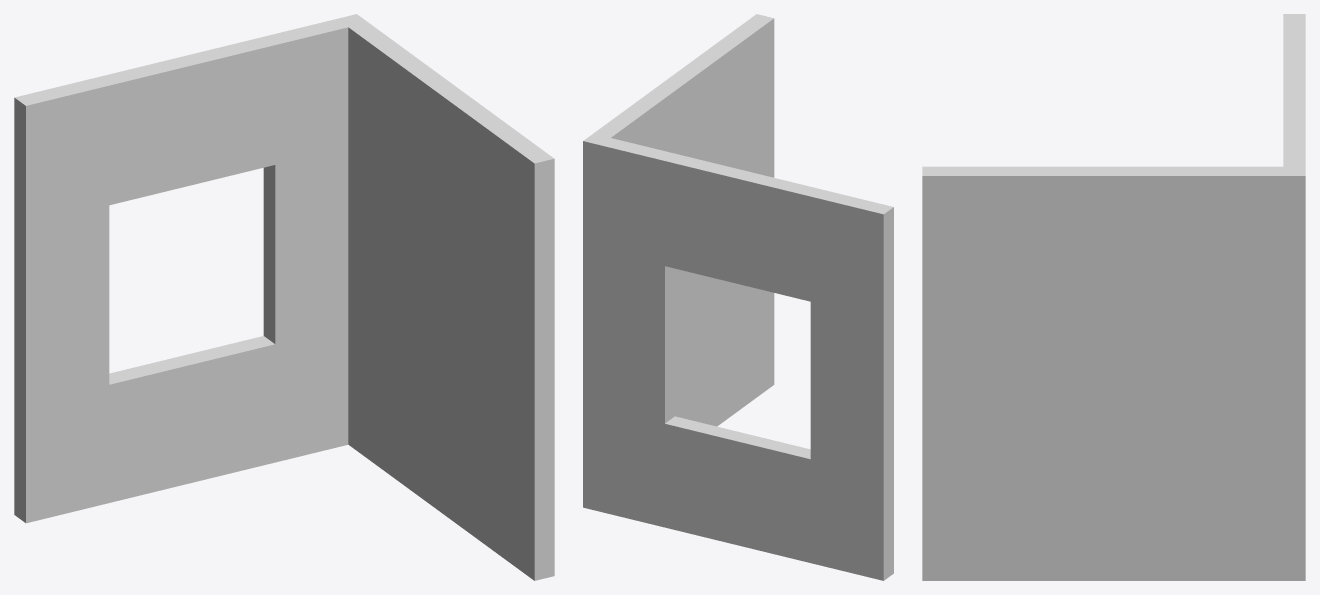
The model's file is Wall1_C1_10.fbx.
3 views of the same model, side by side, from view 1: azimuth 30°, elevation 25°; view 2: azimuth 150°, elevation 25°; view 3: azimuth 270°, elevation 25° (orthographic). The views are drawn at different scales.
Parts seen in each view (by area): view 1: Wall1_C1_10; view 2: Wall1_C1_10; view 3: Wall1_C1_10.
Boxes of the visible parts, x1=… form: Wall1_C1_10: x1=14, y1=14, x2=554, y2=580; Wall1_C1_10: x1=583, y1=14, x2=893, y2=580; Wall1_C1_10: x1=922, y1=14, x2=1305, y2=580.
Bounding box in the file's own units: 258 × 300 × 258.
